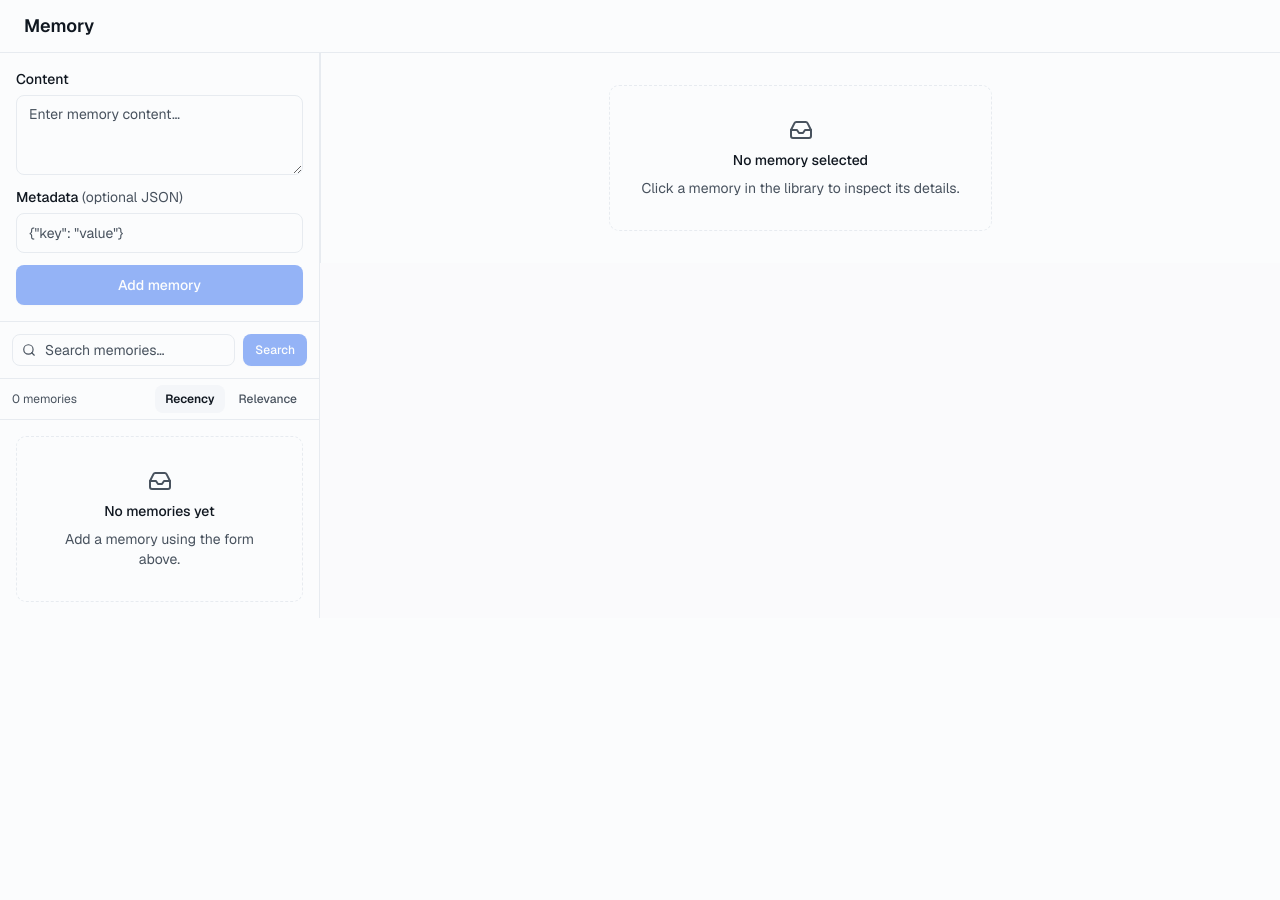
Scenario: MemoryWorkspace › search_null_score_never_shows_fabricated_number
Type "anything" into the field labelled "Search memories…".
click(124, 350); type("anything")  # box [12, 334, 235, 366]
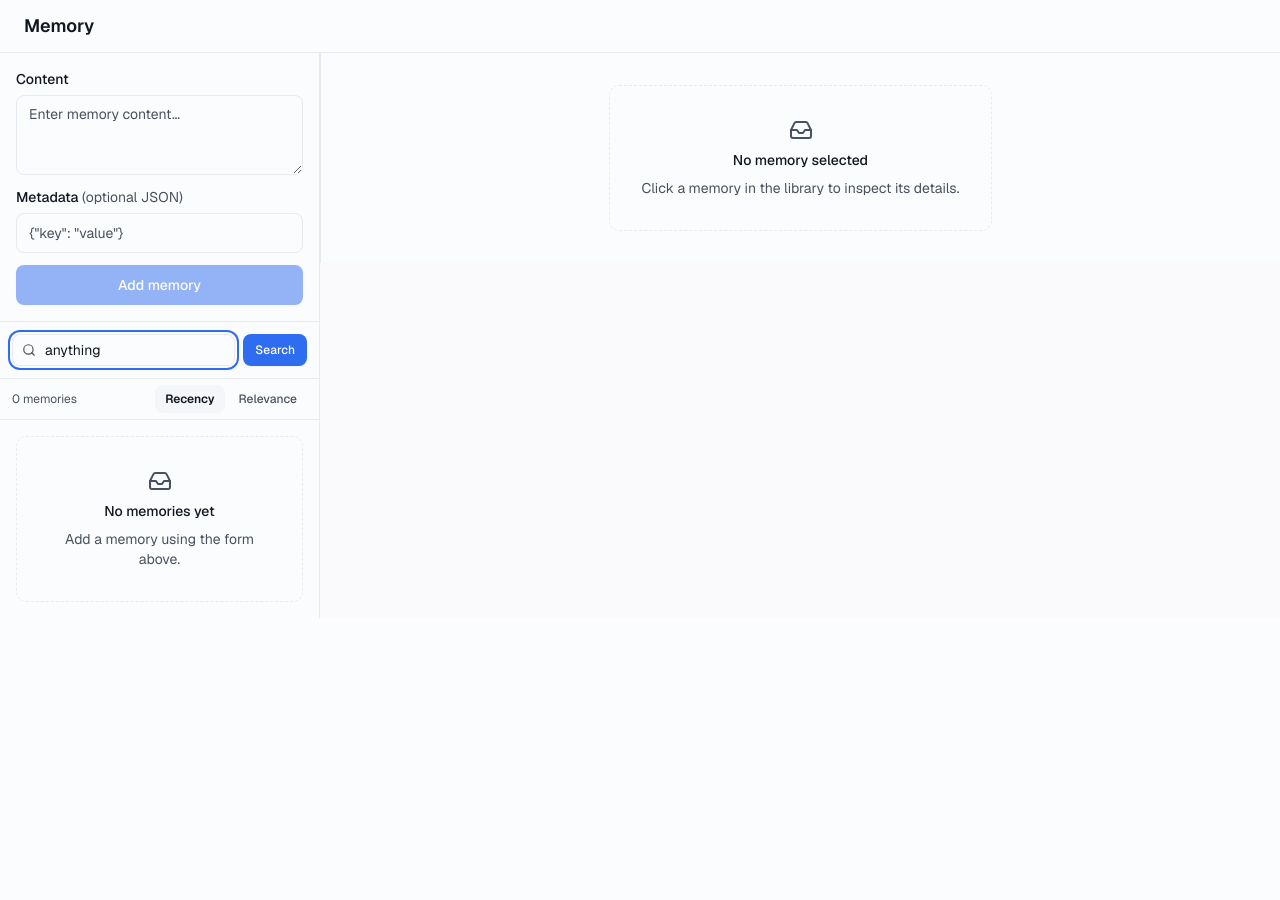
Click the button "Search".
click(275, 350)  # box [243, 334, 307, 366]
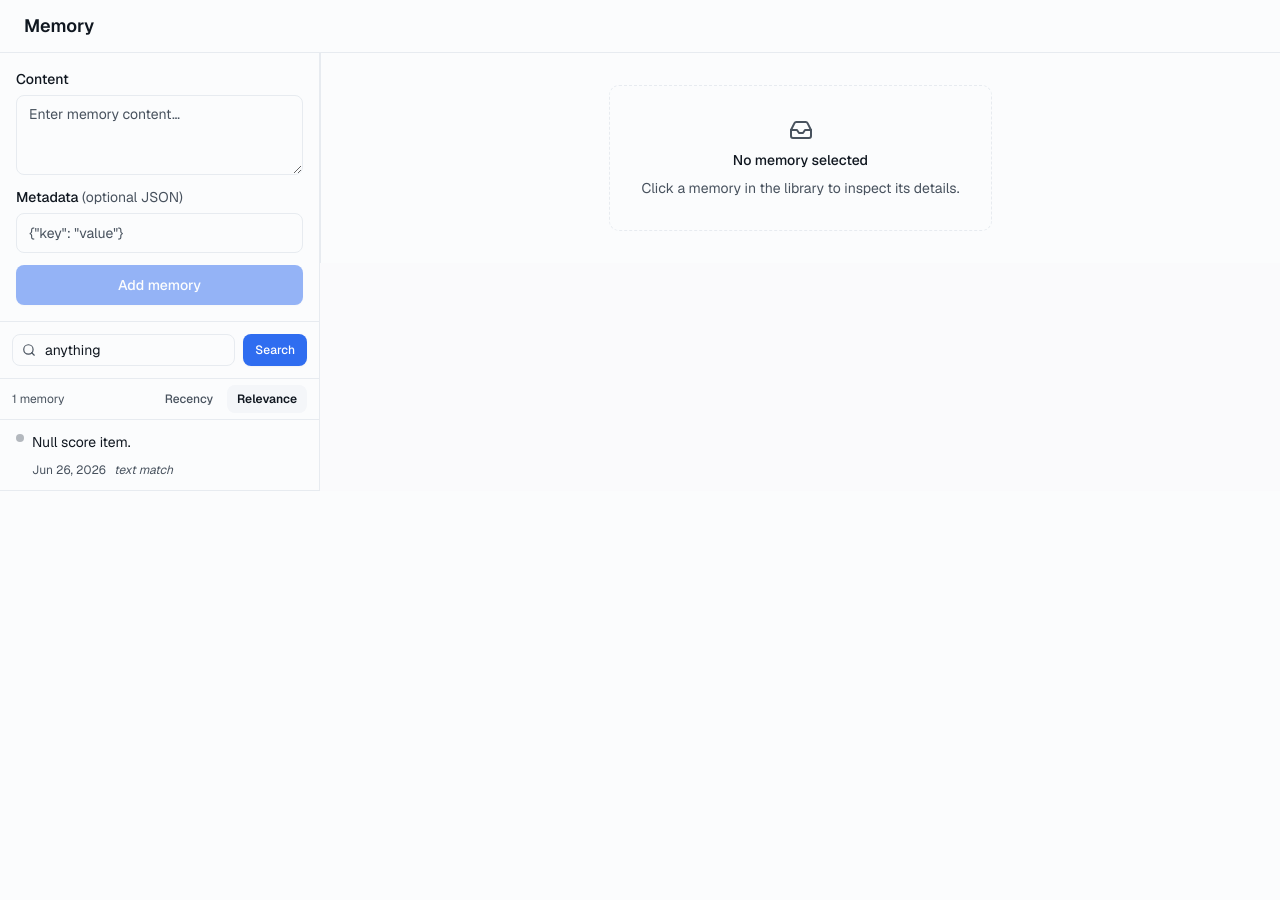
Check: the text "Null score item." is shown, box [32, 433, 131, 451]
Check: the text "text match" is shown, box [114, 462, 173, 478]
